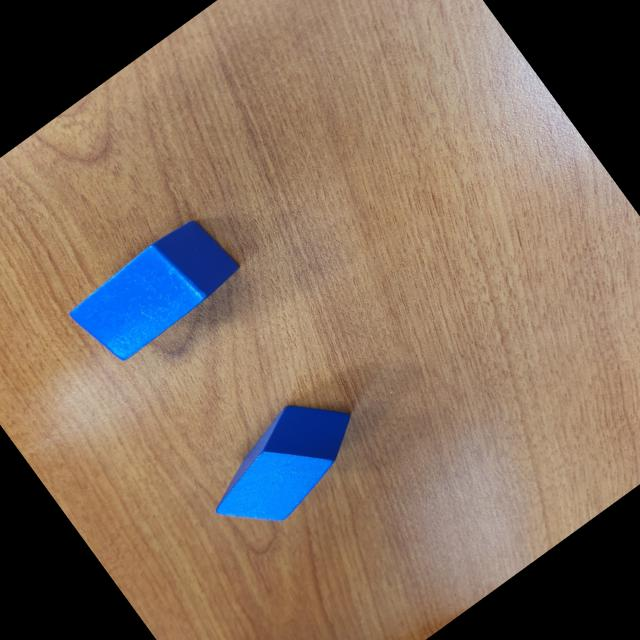blue: (188, 378, 378, 550), (62, 208, 247, 372)
